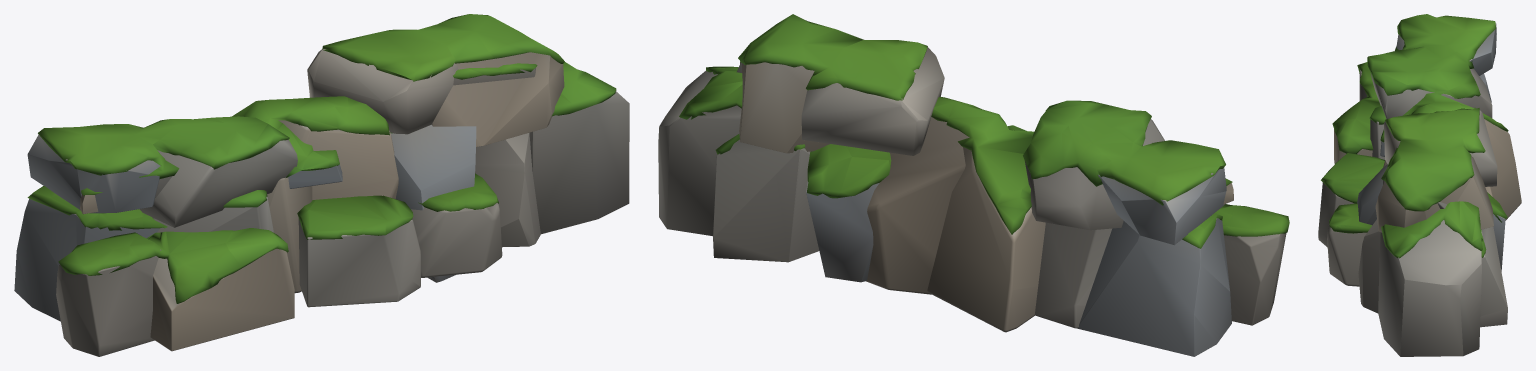
The model's file is glade_bluff_low_lod1.glb.
3 views of the same model, side by side, from view 1: azimuth 30°, elevation 25°; view 2: azimuth 150°, elevation 25°; view 3: azimuth 270°, elevation 25° (orthographic). The views are drawn at different scales.
Parts seen in each view (by area): view 1: glade_bluff_low.001, moss.001; view 2: glade_bluff_low.001, moss.001; view 3: glade_bluff_low.001, moss.001.
Boxes of the visible parts, x1,y1,x2,y2 form: glade_bluff_low.001: [14, 49, 629, 356]; moss.001: [27, 14, 616, 303]; glade_bluff_low.001: [658, 47, 1286, 356]; moss.001: [679, 14, 1289, 248]; glade_bluff_low.001: [1318, 17, 1521, 356]; moss.001: [1321, 14, 1508, 258].
Size of the model in its own units: 43.1 by 13.66 by 16.25.
